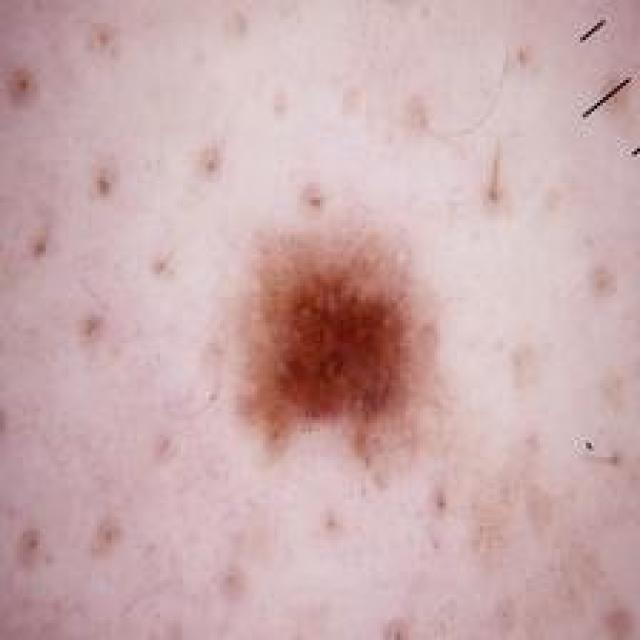Cancer: (236, 222, 446, 456)
